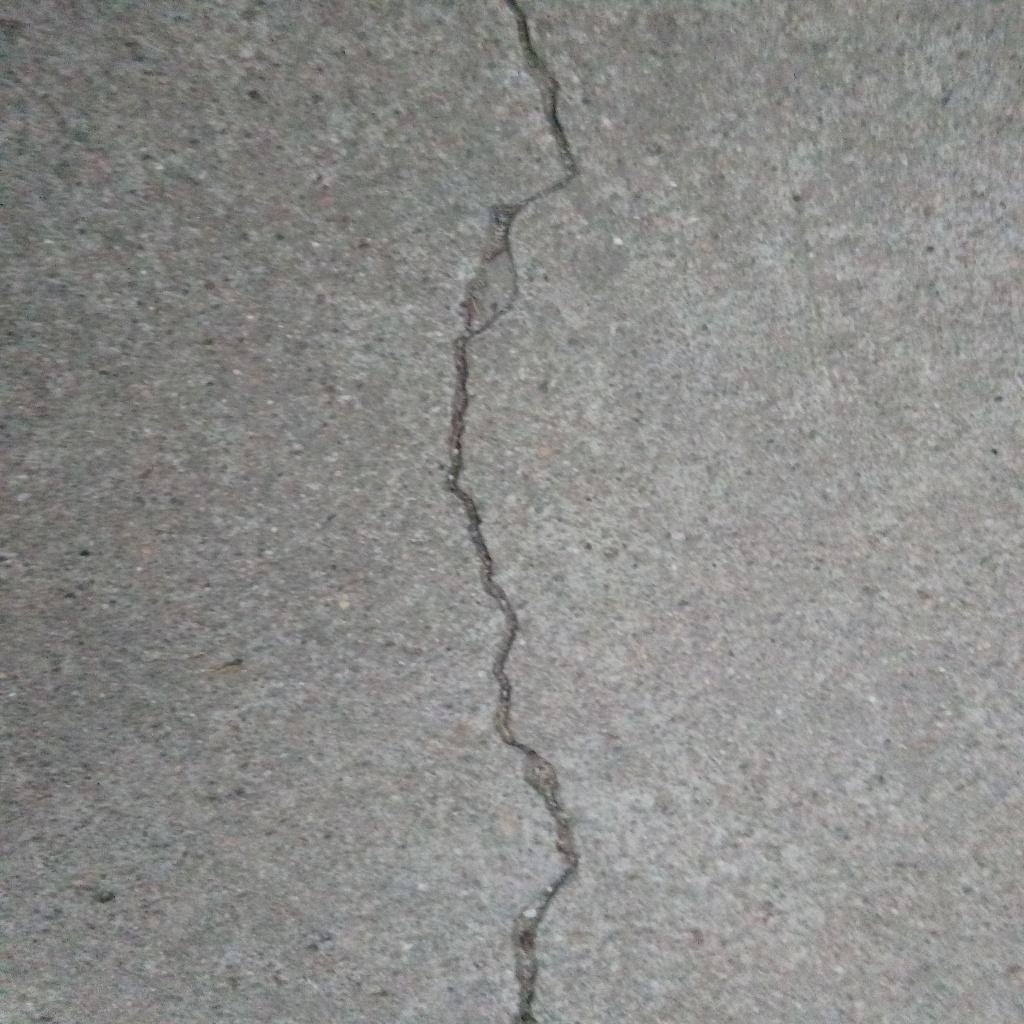Crack: (443, 1, 582, 1024)
